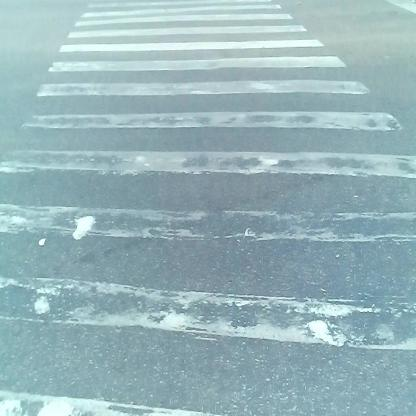crosswalk: (43, 8, 394, 401)
